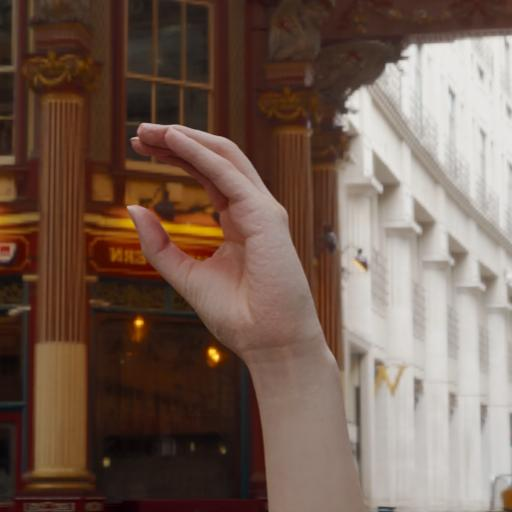C: (126, 120, 332, 352)
